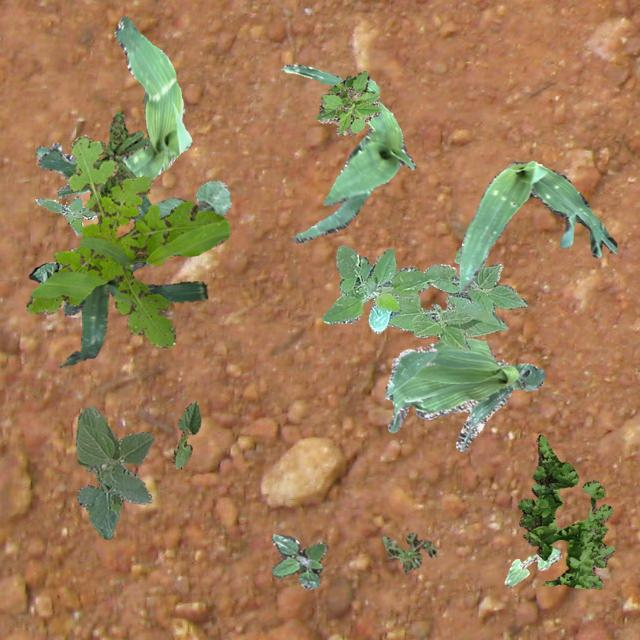crop: (34, 16, 192, 192), (280, 64, 414, 242), (458, 160, 616, 292), (384, 336, 544, 449), (62, 260, 206, 364), (387, 246, 528, 352), (74, 404, 152, 538), (322, 245, 438, 332), (36, 146, 150, 222), (152, 180, 230, 217), (504, 544, 560, 586), (172, 400, 200, 468), (28, 260, 62, 282)
weed: (25, 134, 228, 346), (518, 434, 614, 588), (94, 110, 148, 196), (316, 70, 380, 134), (270, 532, 326, 588), (34, 196, 96, 233), (380, 532, 436, 572)
